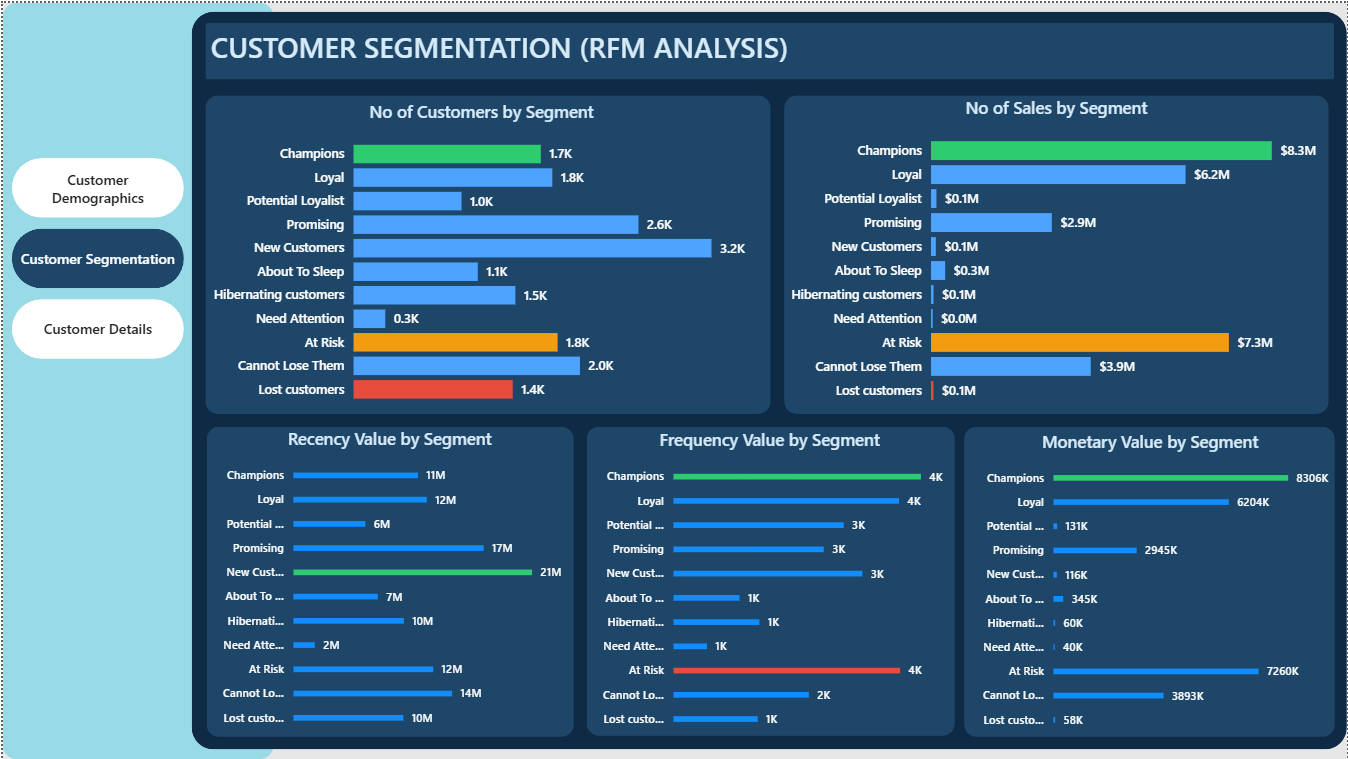

Layout of this report page (visuals, bound fields, positions):
{"tool":"powerbi","page":{"name":"Customer Segmentation","canvas":[1280,720],"ordinal":1},"visuals":[{"type":"shape","box":[0,0,1280.4,720.2],"z":0},{"type":"shape","box":[0,0,257.5,720],"z":1000},{"type":"shape","box":[180,8.8,1100,702.5],"z":2000},{"type":"shape","box":[193.2,19.6,1074.9,53.8],"z":3000},{"type":"shape","box":[193.9,403.5,349.4,295.3],"z":4000},{"type":"shape","box":[555.7,403.5,350.5,294.2],"z":5000},{"type":"shape","box":[915.2,403.5,352.8,295.3],"z":6000},{"type":"shape","box":[743.5,88,518.5,303.3],"z":7000},{"type":"shape","box":[193.2,88,538,303.3],"z":8000},{"type":"textbox","box":[193.2,19.6,585.7,53.8],"z":9000},{"type":"barChart","title":"No of Customers by Segment","fields":{"Y":["Count(FactInternetSales.CustomerKey)"],"Category":["Segment Table.Segment"]},"box":[194.4,91.7,523.4,299.6],"z":10000},{"type":"barChart","title":"No of Sales by Segment","fields":{"Category":["Segment Table.Segment"],"Y":["Sum(FactInternetSales.SalesAmount)"]},"box":[743.5,88,518.5,304.5],"z":11000},{"type":"barChart","title":"Recency Value by Segment","fields":{"Y":["Sum(RFM Table.Recency Value)"],"Category":["Segment Table.Segment"]},"box":[193.2,403.5,351,294.7],"z":12000},{"type":"barChart","title":"Frequency Value by Segment","fields":{"Y":["Sum(RFM Table.Frequency Value)"],"Category":["Segment Table.Segment"]},"box":[555.2,404.8,351,294.7],"z":13000},{"type":"barChart","title":"Monetary Value by Segment","fields":{"Category":["Segment Table.Segment"],"Y":["Sum(RFM Table.Monetary Value)"]},"box":[916.3,405.8,351.7,294.2],"z":14000},{"type":"pageNavigator","box":[7.9,147.7,164.6,191.6],"z":15000}]}

Visuals, with their boxes in screenshot pixels (x1, y1, x2, y2), scaled from the page's 1280x720 canvas onto the 1348x759 screenshot:
shape: (left=0, top=0, right=1347, bottom=758)
shape: (left=0, top=0, right=271, bottom=758)
shape: (left=190, top=9, right=1347, bottom=750)
shape: (left=203, top=21, right=1335, bottom=77)
shape: (left=204, top=425, right=572, bottom=737)
shape: (left=585, top=425, right=954, bottom=735)
shape: (left=964, top=425, right=1335, bottom=737)
shape: (left=783, top=93, right=1329, bottom=412)
shape: (left=203, top=93, right=770, bottom=412)
textbox: (left=203, top=21, right=820, bottom=77)
"No of Customers by Segment" barChart: (left=205, top=97, right=756, bottom=412)
"No of Sales by Segment" barChart: (left=783, top=93, right=1329, bottom=414)
"Recency Value by Segment" barChart: (left=203, top=425, right=573, bottom=736)
"Frequency Value by Segment" barChart: (left=585, top=427, right=954, bottom=737)
"Monetary Value by Segment" barChart: (left=965, top=428, right=1335, bottom=738)
pageNavigator: (left=8, top=156, right=182, bottom=358)
